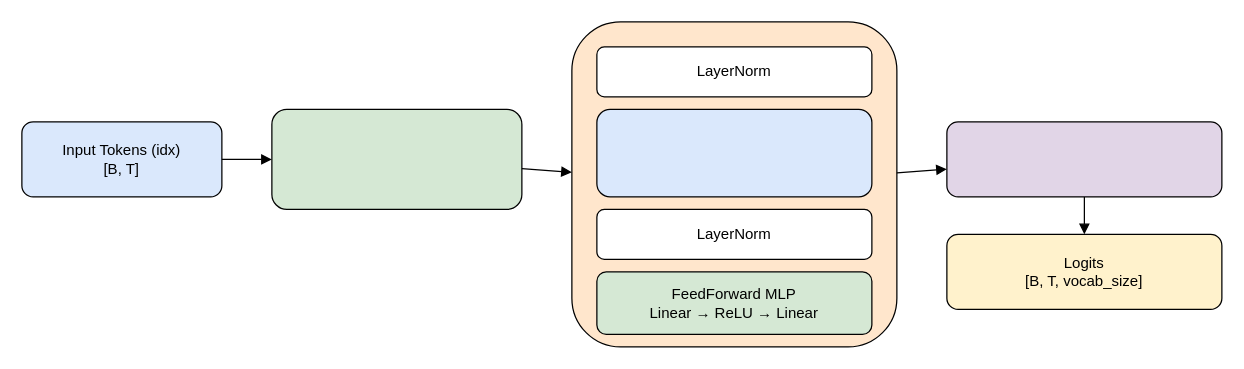
Some shapes in this 1244 by 369 pixel diagram are drawn without their labels. The shapes that lost their labels are listed below. From the top down, each one's box as (x1, y1, x2, y2) in pixels, then its label:
(271, 108, 522, 209): Embedding Layer Token + Positional
(596, 108, 872, 197): Multi-Head Self-Attention (Q, K, V, Masked Softmax)
(946, 121, 1222, 197): LM Head Linear(n_embd → vocab_size)
